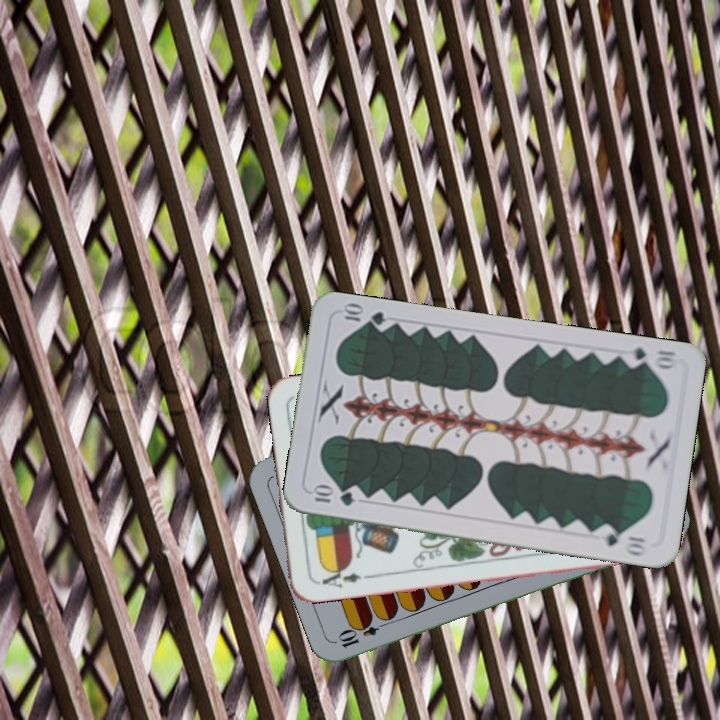E10: (334, 615, 392, 651)
EA: (313, 563, 364, 591)
G10: (620, 343, 680, 372), (308, 483, 357, 509)
